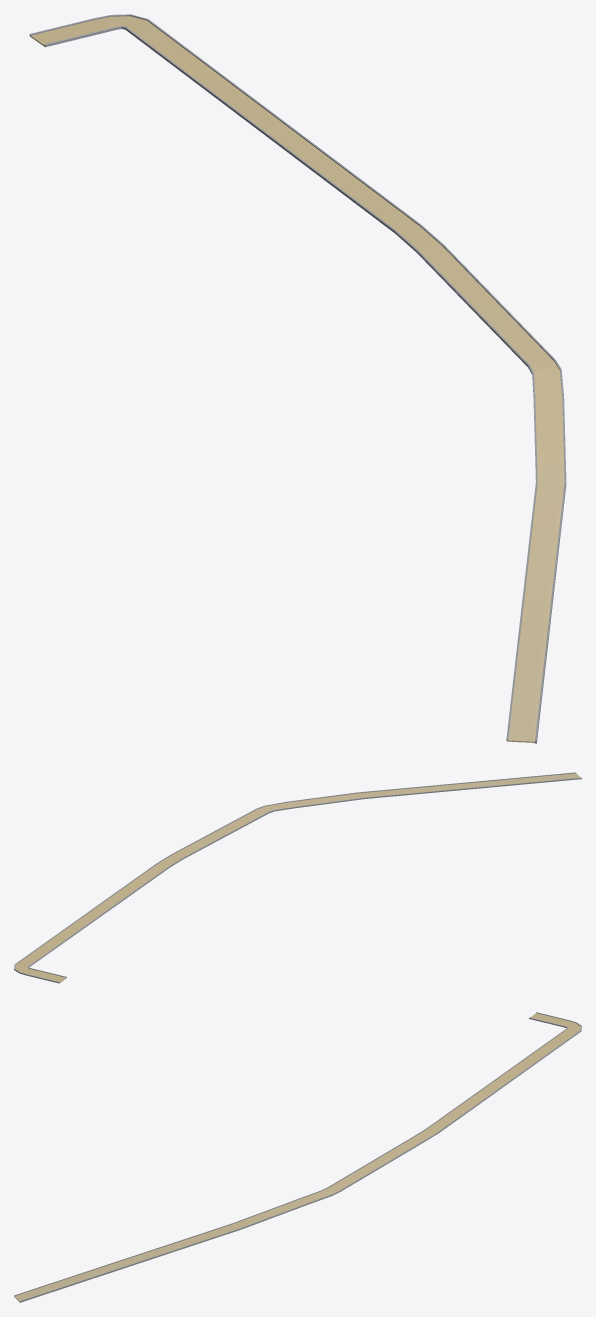
Rendered from sidewalk_15.fbx.
3 views of the same model, one above another, from view 1: azimuth 30°, elevation 25°; view 2: azimuth 150°, elevation 25°; view 3: azimuth 330°, elevation 25° (orthographic). The views are drawn at different scales.
Visible parts, largest first — view 1: sidewalk_14; view 2: sidewalk_14; view 3: sidewalk_14.
Boxes of the visible parts, x1=… form: sidewalk_14: x1=29, y1=14, x2=566, y2=743; sidewalk_14: x1=14, y1=772, x2=581, y2=983; sidewalk_14: x1=14, y1=1012, x2=581, y2=1302.
Bounding box in the file's own units: 4.16 × 0.8387 × 14.29.
1 material, 1 textured.
